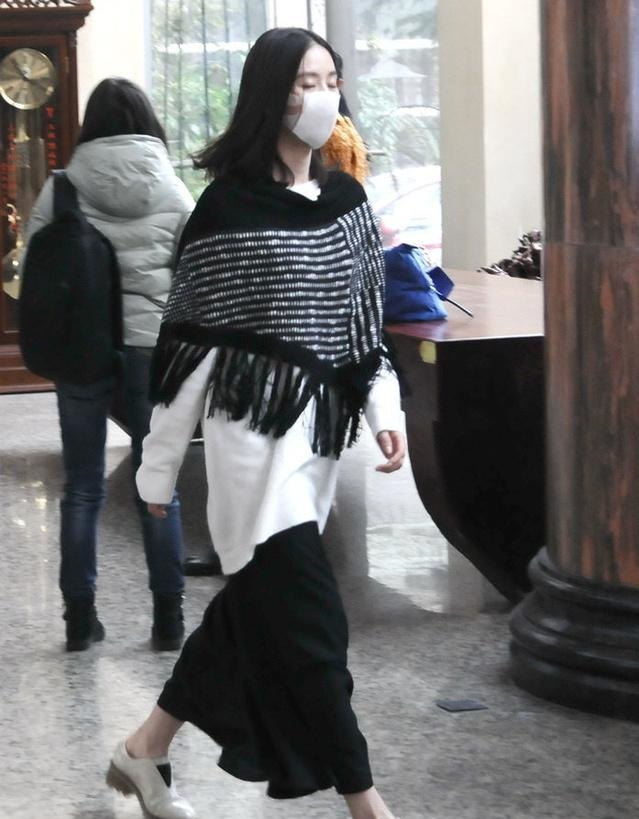face_mask: (288, 53, 338, 147)
